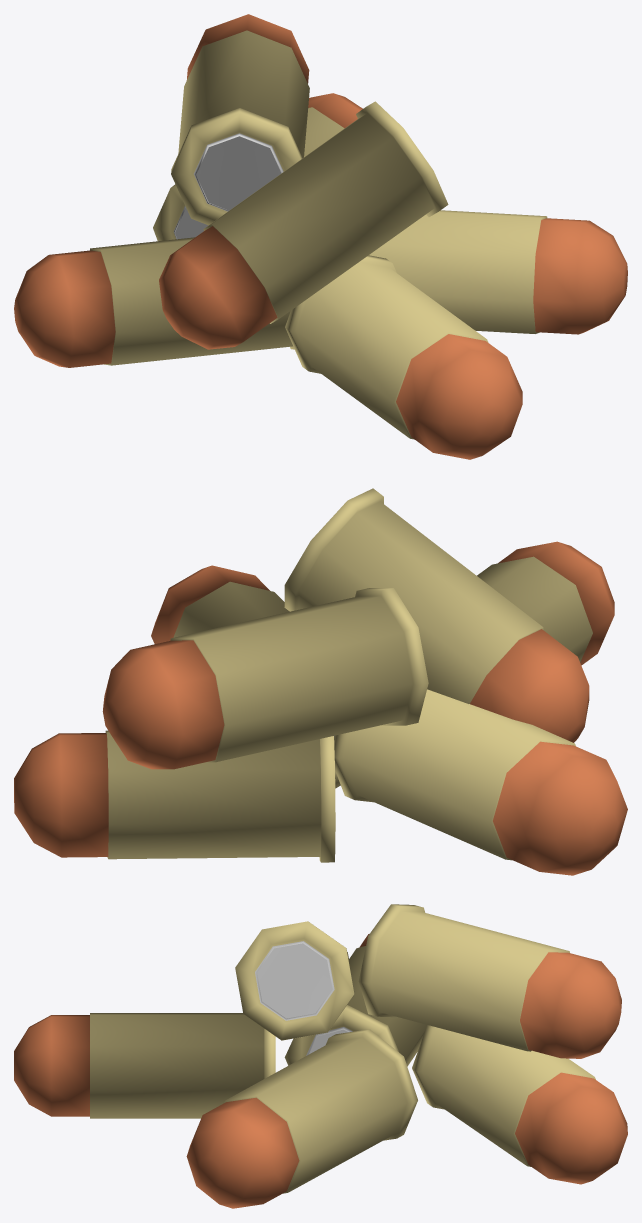
File: Bullets.fbx
3 views of the same model, one above another, from view 1: azimuth 30°, elevation 25°; view 2: azimuth 150°, elevation 25°; view 3: azimuth 270°, elevation 25° (orthographic). The views are drawn at different scales.
Parts seen in each view (by area): view 1: Cylinder.004; view 2: Cylinder.004; view 3: Cylinder.004.
Part boxes in pixels (box(x1,y1,x2,y2)): Cylinder.004: box(14, 14, 627, 459); Cylinder.004: box(14, 488, 627, 875); Cylinder.004: box(14, 904, 627, 1208).
Bounding box in the file's own units: 858 × 400 × 1006.
